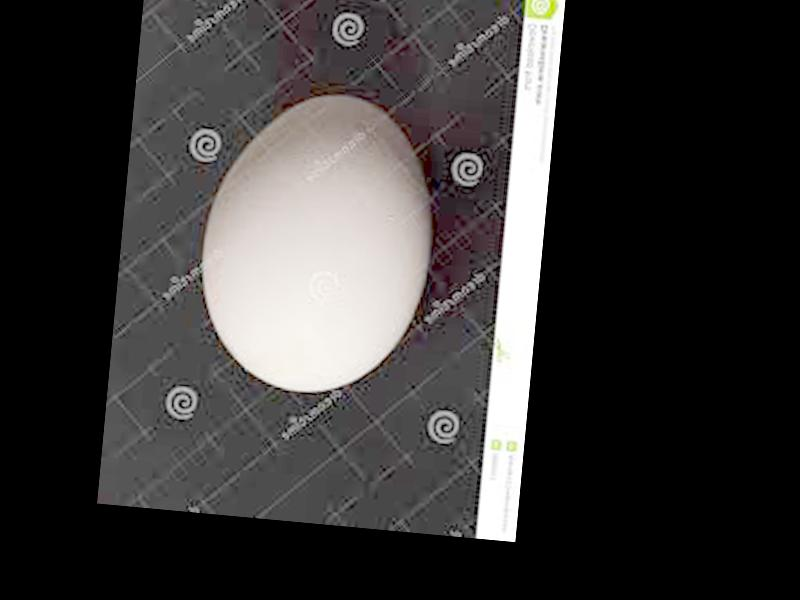Eggs: (191, 83, 442, 404)
